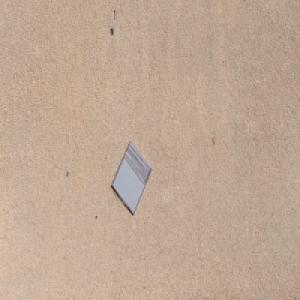PlasticPart: (111, 140, 153, 216)
